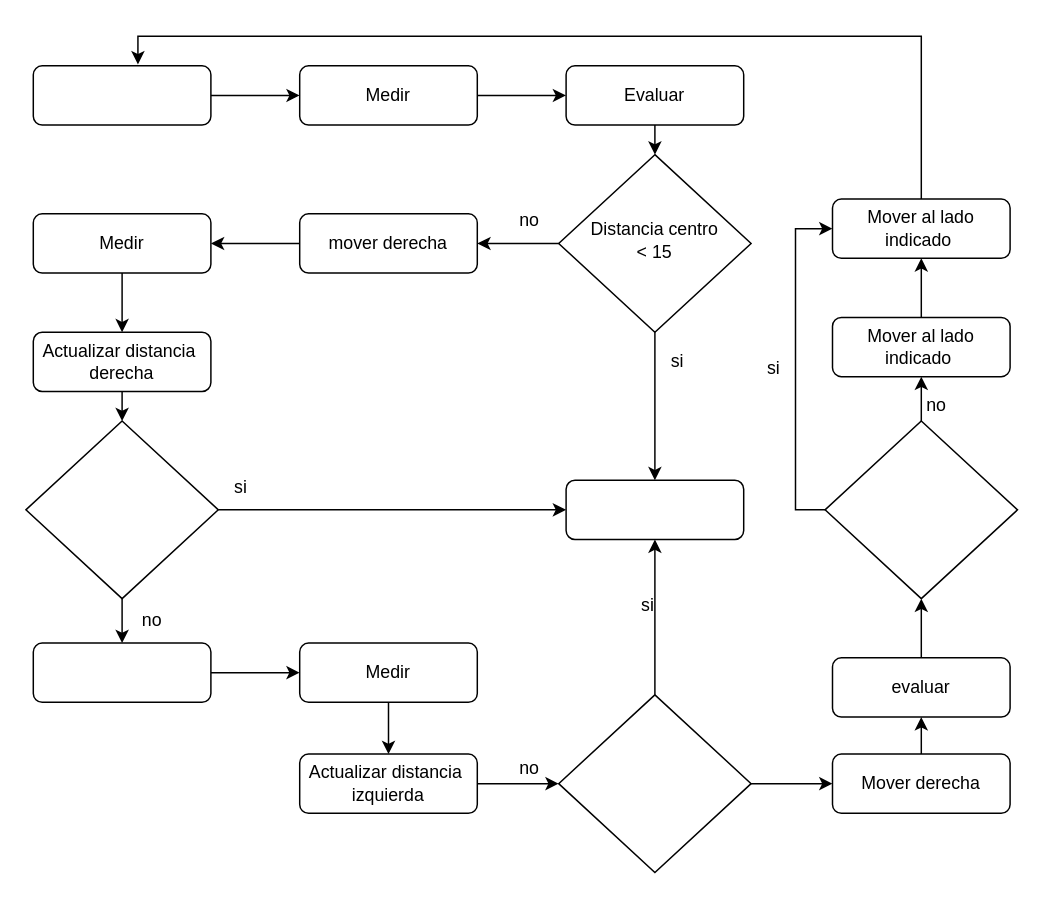
Image size: 1043x898. Some labels were removed from this diagram. The centre of each missing label's shape, as x and y in pixels:
Distancia derecha < 15: (121,509)
Distancia izquierda < 15: (654,782)
Fin: (654,509)
Inicio: (121,94)
Mejor distancia es el centro: (921,509)
mover izquierda: (121,672)
